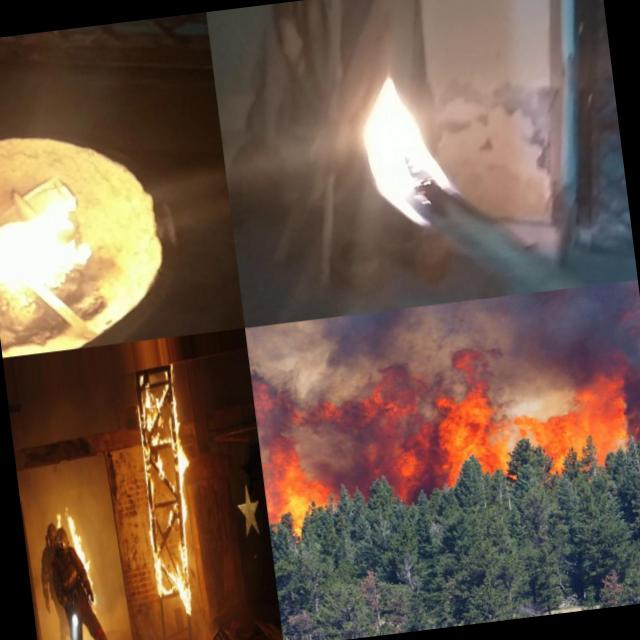fire: (342, 44, 480, 235), (129, 354, 205, 612), (525, 358, 640, 479), (431, 378, 516, 488), (258, 431, 339, 526), (0, 185, 32, 313), (385, 444, 431, 501), (68, 509, 94, 578)
smoke: (418, 287, 586, 386), (319, 358, 436, 454), (250, 369, 327, 443)
